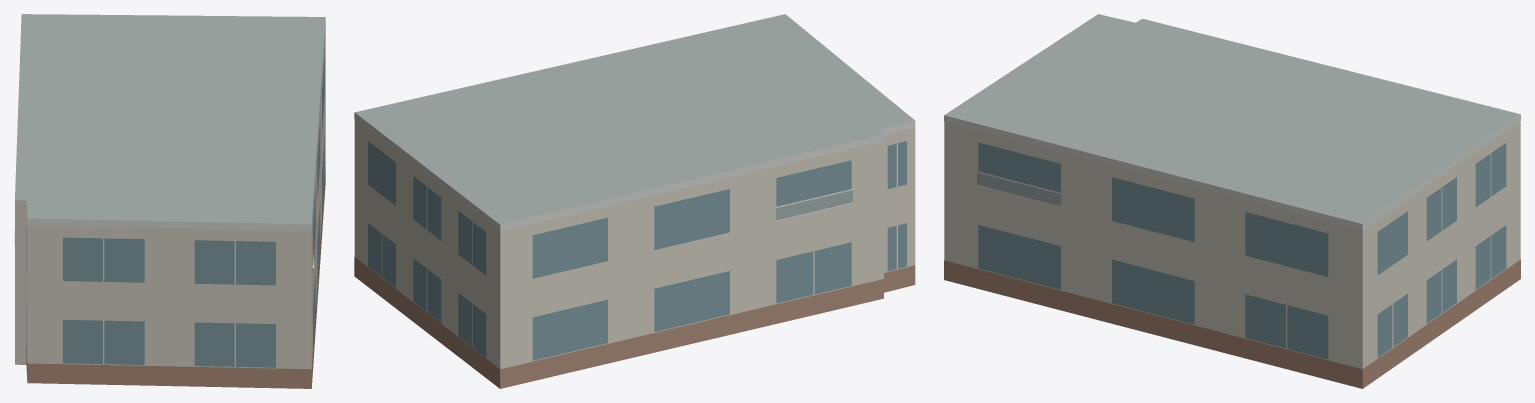
File: survey-upis-32737417.glb
The picture shows the model from 3 angles, left to right: view 1: azimuth 30°, elevation 25°; view 2: azimuth 150°, elevation 25°; view 3: azimuth 270°, elevation 25°; orthographic projection.
Parts seen in each view (by area): view 1: survey-upis-32737417.tmp; view 2: survey-upis-32737417.tmp; view 3: survey-upis-32737417.tmp.
Part boxes in pixels (x1,y1,x2,y2): survey-upis-32737417.tmp: (14,14,325,388); survey-upis-32737417.tmp: (354,14,915,388); survey-upis-32737417.tmp: (944,14,1520,388).
Bounding box in the file's own units: 16.7 × 6.1 × 19.36.
